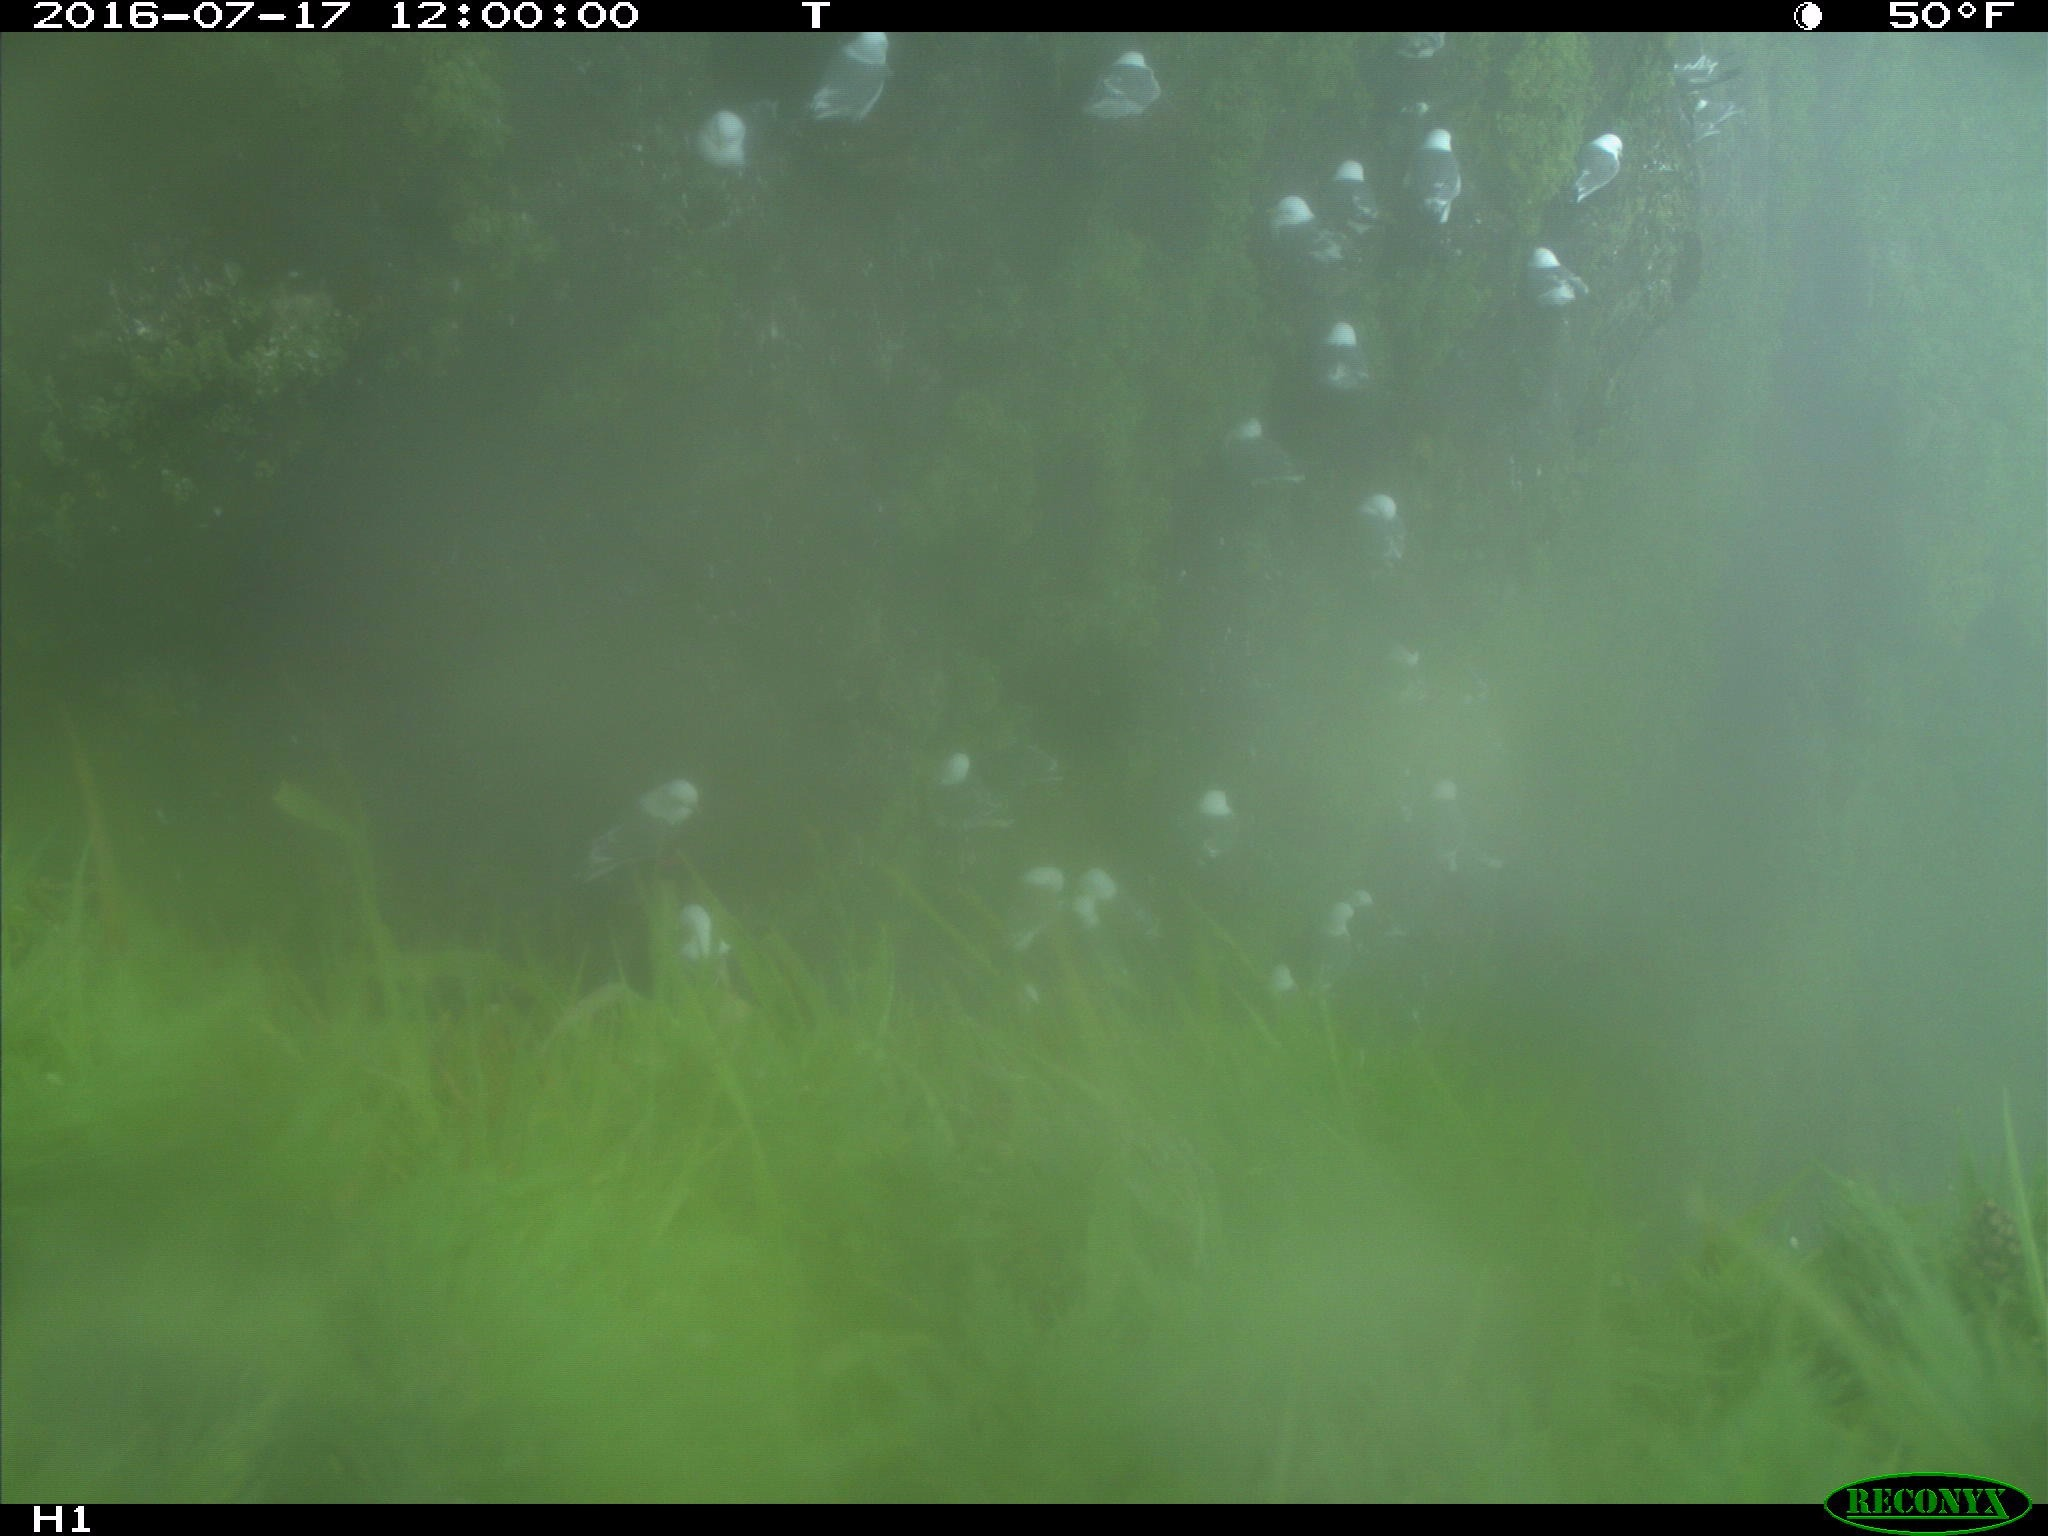Kittiwake: (519, 760, 735, 883), (906, 731, 1092, 845), (1392, 762, 1521, 913), (1642, 23, 1779, 148), (1384, 115, 1492, 260), (792, 27, 942, 126), (1285, 287, 1400, 415), (677, 89, 806, 192), (1521, 219, 1627, 340), (1069, 40, 1193, 142), (1192, 390, 1317, 490), (985, 849, 1077, 975), (1256, 174, 1353, 284), (639, 899, 753, 987), (1555, 119, 1659, 211), (1076, 854, 1164, 958), (1321, 123, 1393, 250), (1297, 894, 1371, 1018), (1171, 771, 1263, 871), (1350, 479, 1427, 586), (1364, 24, 1485, 74)
